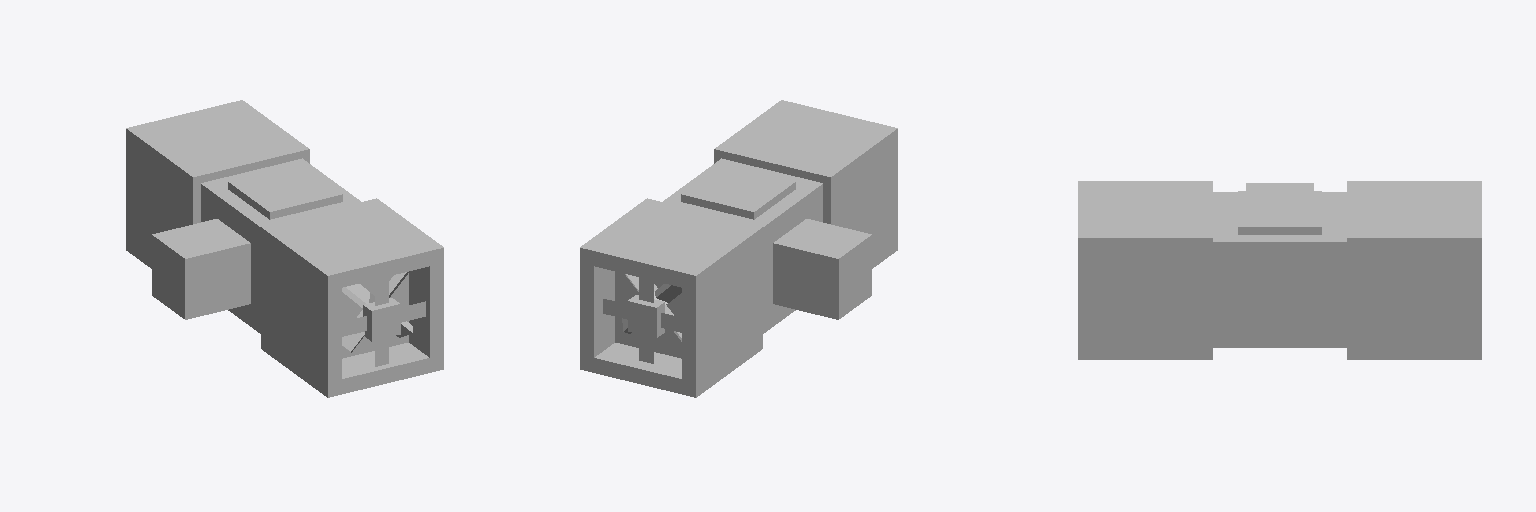
File: coke_oven_preheater.obj
The picture shows the model from 3 angles: view 1: azimuth 30°, elevation 25°; view 2: azimuth 150°, elevation 25°; view 3: azimuth 270°, elevation 25°; orthographic projection.
Visible parts, largest first — view 1: cuboid, fan; view 2: cuboid, fan; view 3: cuboid.
Boxes of the visible parts, box(x1,y1,x2,y2) form: cuboid: box(126, 100, 443, 397); fan: box(342, 271, 412, 352); cuboid: box(580, 100, 897, 397); fan: box(622, 274, 681, 341); cuboid: box(1078, 181, 1481, 359).
Size of the model in its own units: 1.5 by 1 by 3.